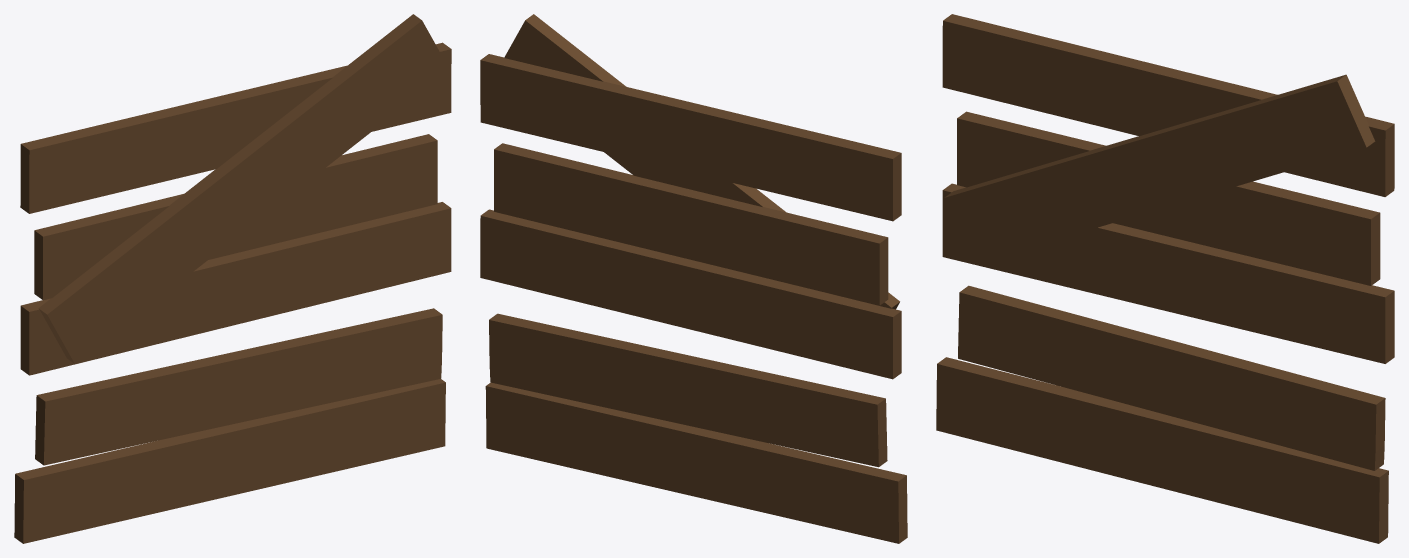
Rendered from barricade-window.glb.
3 renders of one model, left to right at view 1: azimuth 30°, elevation 25°; view 2: azimuth 150°, elevation 25°; view 3: azimuth 330°, elevation 25°, orthographic. The views are drawn at different scales.
Visible parts, largest first — view 1: barricade-window; view 2: barricade-window; view 3: barricade-window.
Part boxes in pixels (bbox=[...]): barricade-window: bbox=[14, 14, 451, 543]; barricade-window: bbox=[480, 14, 907, 543]; barricade-window: bbox=[936, 14, 1394, 543].
Size of the model in its own units: 1.41 by 1.38 by 0.0971.
Materials: 1 (1 with a texture image).
